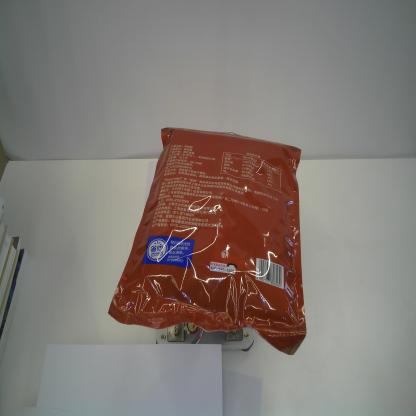Dried Food: (107, 126, 308, 357)
